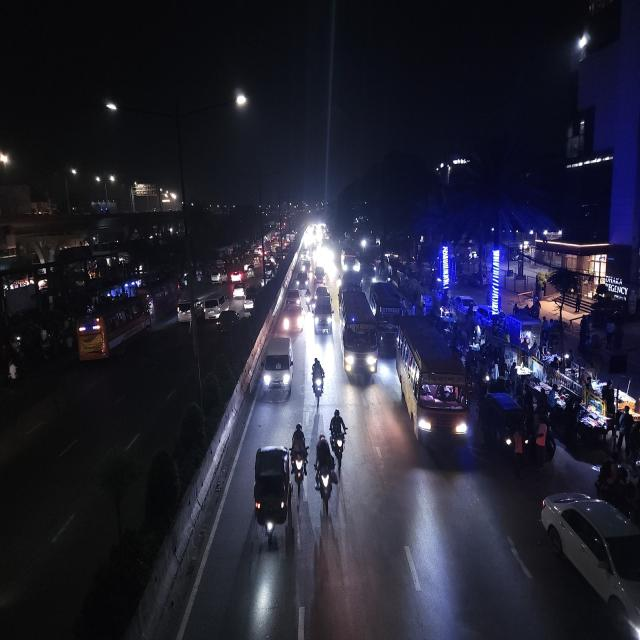bus: (394, 316, 472, 459), (72, 293, 152, 367), (338, 285, 379, 387), (371, 280, 403, 338), (340, 244, 360, 275)
car: (536, 484, 639, 640), (261, 332, 295, 402), (311, 284, 333, 340), (282, 286, 304, 334), (200, 291, 229, 322), (216, 306, 238, 338), (176, 292, 194, 324), (312, 265, 328, 286), (210, 268, 224, 286), (232, 282, 244, 300), (296, 271, 308, 289), (230, 268, 243, 283)
cng: (250, 441, 293, 549), (482, 389, 530, 467), (246, 264, 256, 279)
motorcycle: (313, 428, 338, 512), (291, 420, 308, 494), (329, 406, 348, 458), (310, 354, 326, 406)
